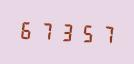five: (75, 20, 93, 45)
seven: (37, 18, 55, 43), (94, 21, 112, 46)
six: (18, 17, 36, 42)
three: (56, 19, 74, 44)
